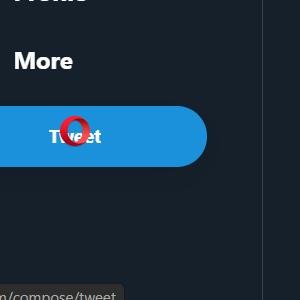opera: (60, 115, 90, 147)
